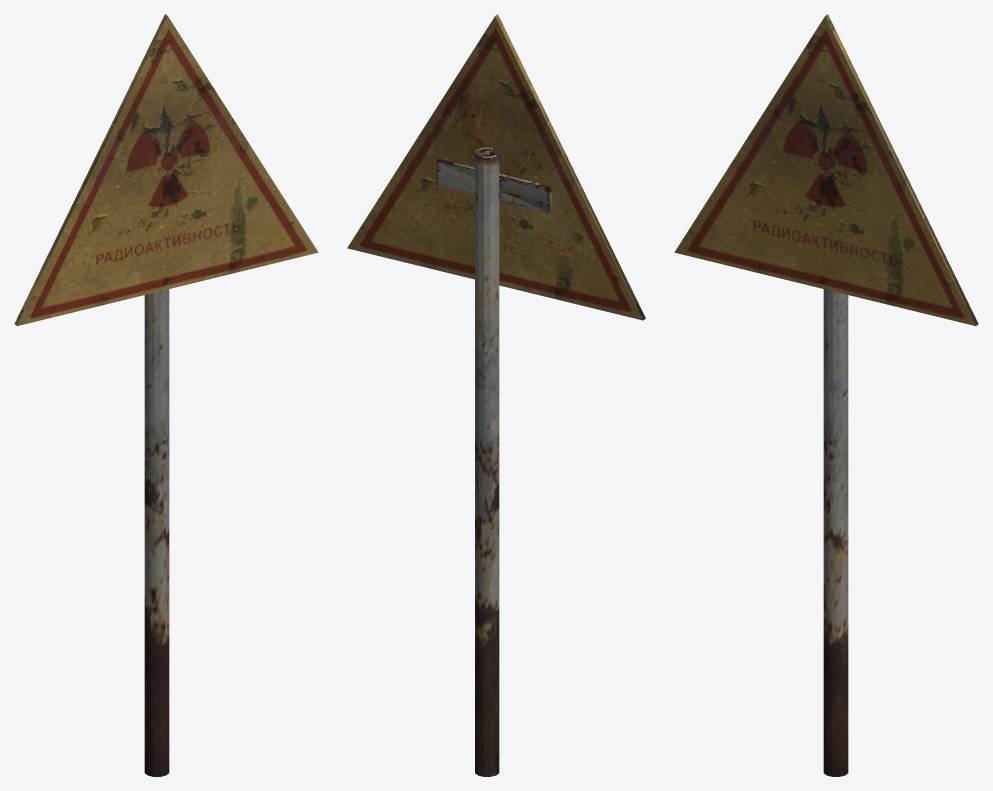
The model's file is sign_rad.fbx.
The picture shows the model from 3 angles, left to right: view 1: azimuth 30°, elevation 25°; view 2: azimuth 150°, elevation 25°; view 3: azimuth 330°, elevation 25°; orthographic projection.
Visible parts, largest first — view 1: sign_radiation.object; view 2: sign_radiation.object; view 3: sign_radiation.object.
Boxes of the visible parts, x1,y1,x2,y2 form: sign_radiation.object: (14, 14, 318, 776); sign_radiation.object: (347, 14, 645, 776); sign_radiation.object: (674, 14, 978, 776).
Bounding box in the file's own units: 86.6 × 210 × 8.52.
